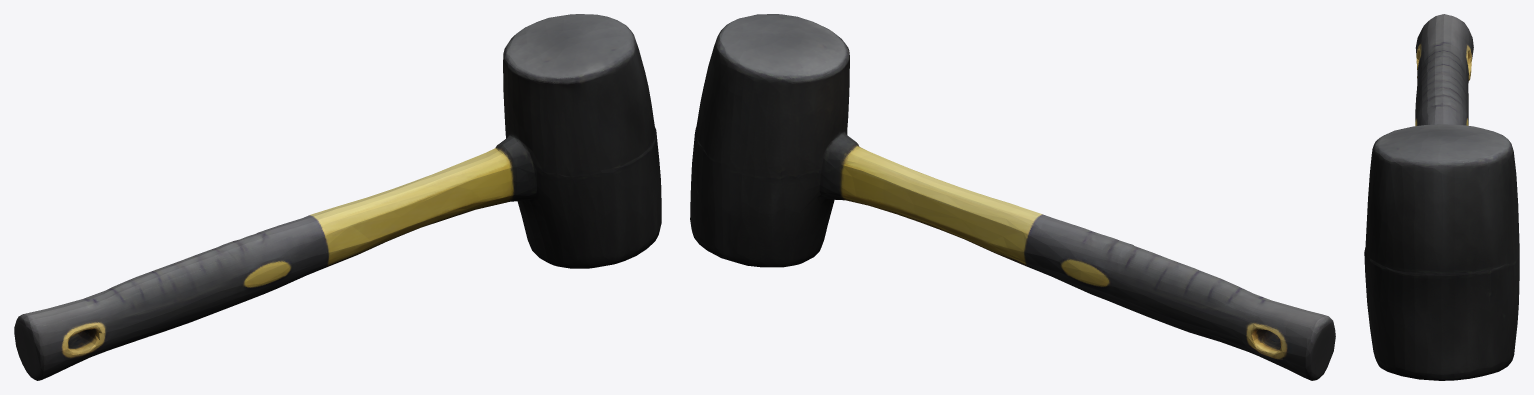
File: Cole_Hardware_Hammer_Black.glb
The picture shows the model from 3 angles, left to right: view 1: azimuth 30°, elevation 25°; view 2: azimuth 150°, elevation 25°; view 3: azimuth 270°, elevation 25°; orthographic projection. The views are drawn at different scales.
Visible parts, largest first — view 1: world; view 2: world; view 3: world.
Boxes of the visible parts, bbox=[...] form: world: bbox=[14, 14, 661, 380]; world: bbox=[690, 14, 1335, 380]; world: bbox=[1364, 14, 1519, 380].
Bounding box in the file's own units: 0.9995 × 0.3318 × 0.2062.
Materials: 1 (1 with a texture image).
